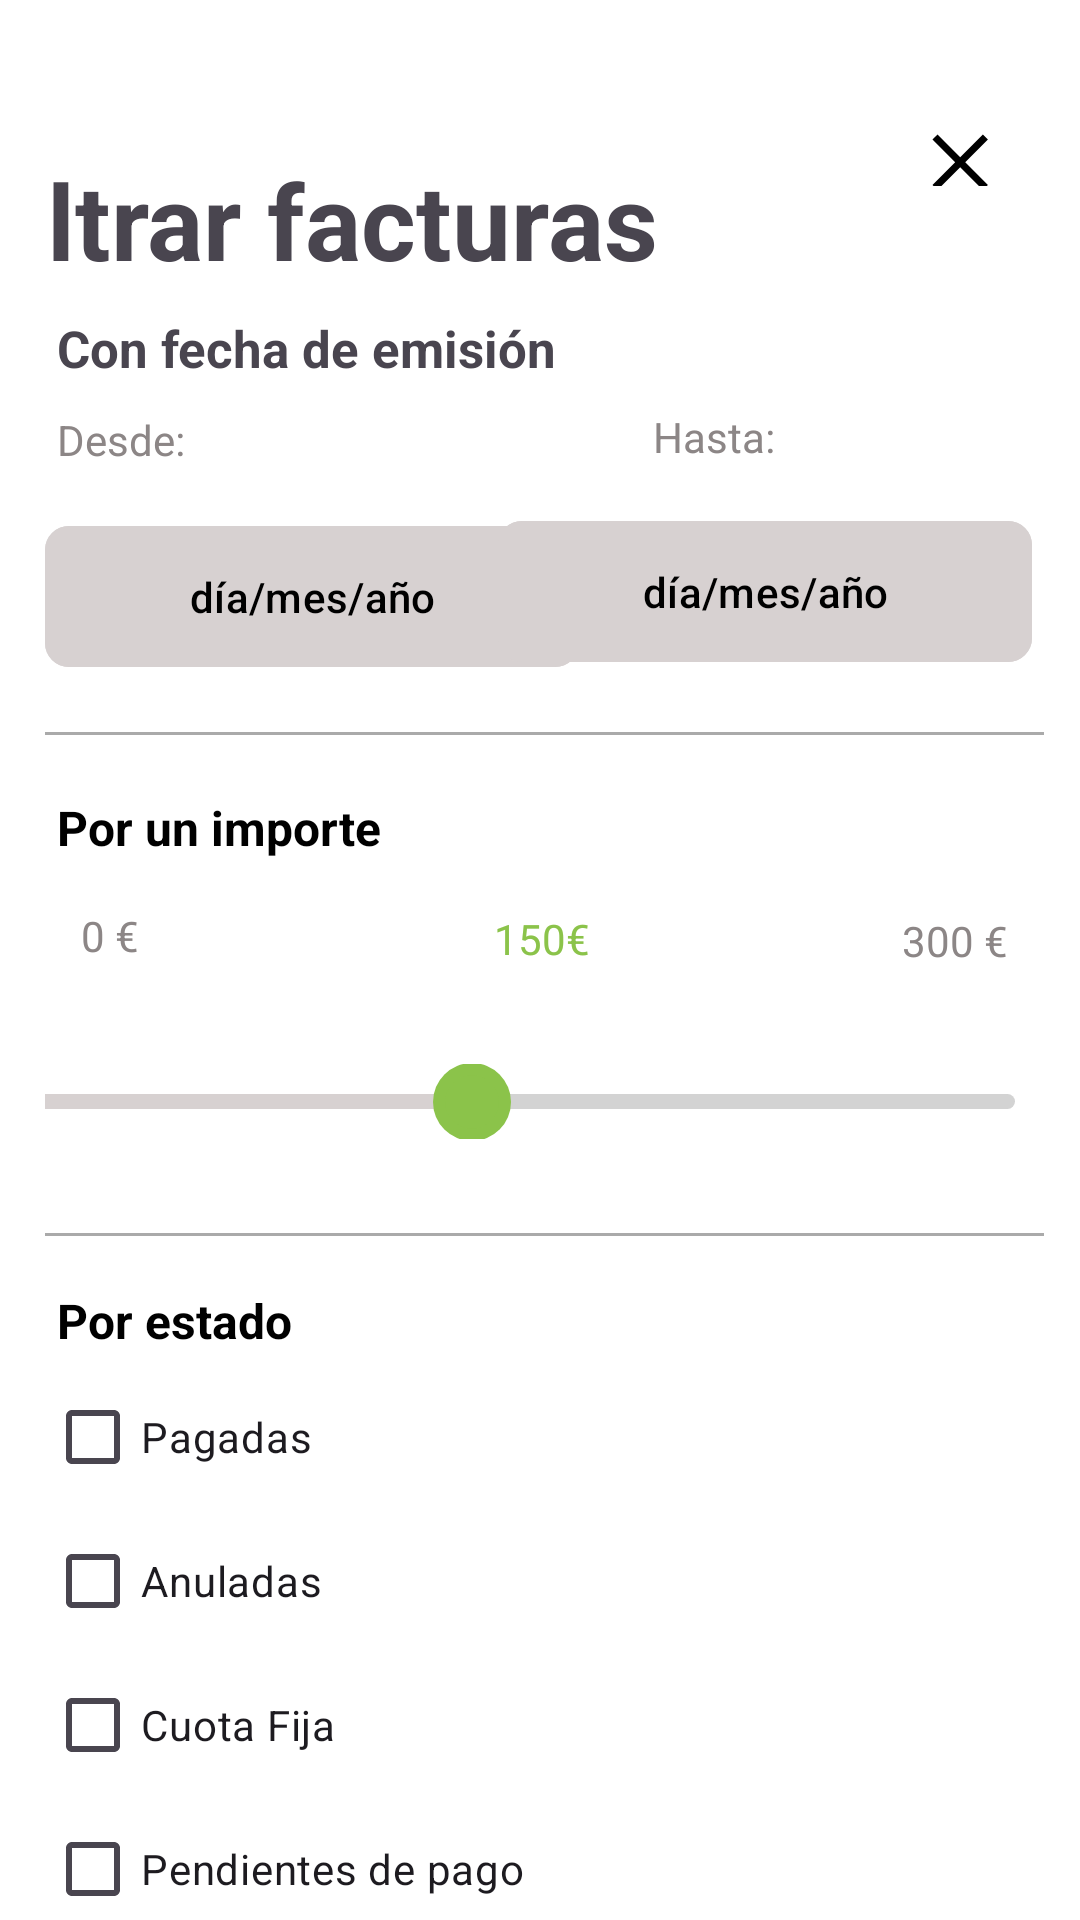

Point at icon controls on the screen. Image size 1080 × 1920, points as (x=x, y=y).
Close icon: (x=960, y=160)
